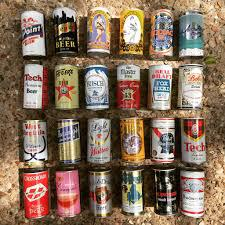beer: (20, 7, 207, 221)
